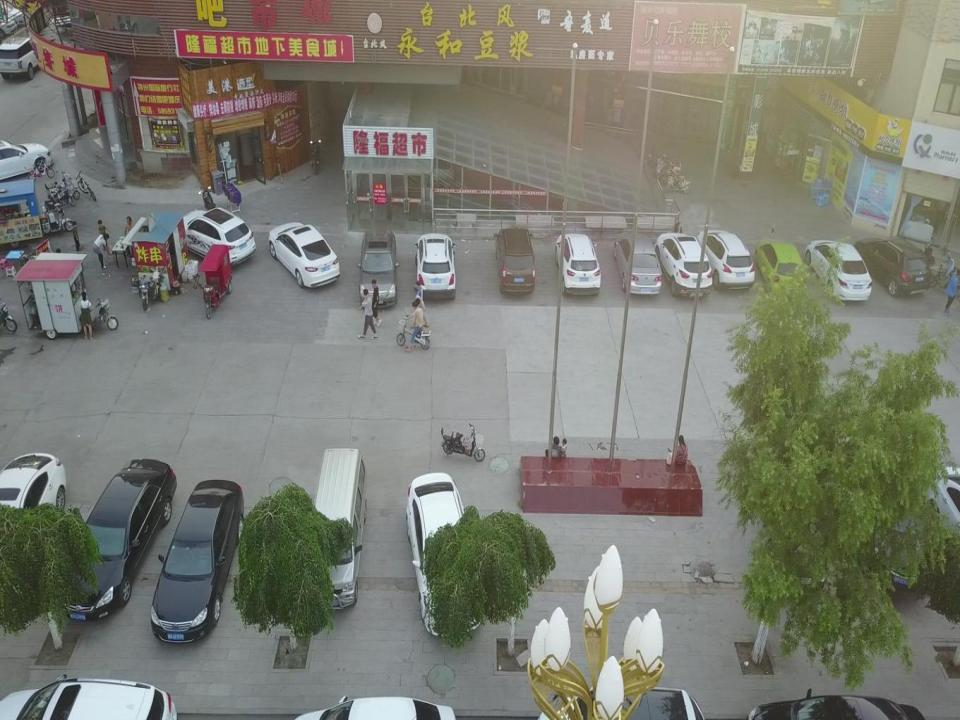car: (70, 459, 174, 625), (148, 476, 245, 641), (0, 678, 176, 718), (748, 681, 928, 720), (541, 684, 713, 720), (268, 216, 342, 292), (854, 226, 930, 299), (288, 692, 469, 720), (176, 205, 255, 264), (804, 235, 872, 301), (355, 226, 401, 310), (698, 228, 755, 294), (656, 228, 712, 294), (759, 235, 811, 305), (491, 228, 539, 296), (414, 232, 462, 298), (551, 231, 600, 294), (613, 236, 661, 298), (0, 139, 56, 181), (0, 37, 40, 81)
van: (397, 470, 488, 635), (305, 445, 368, 607)
